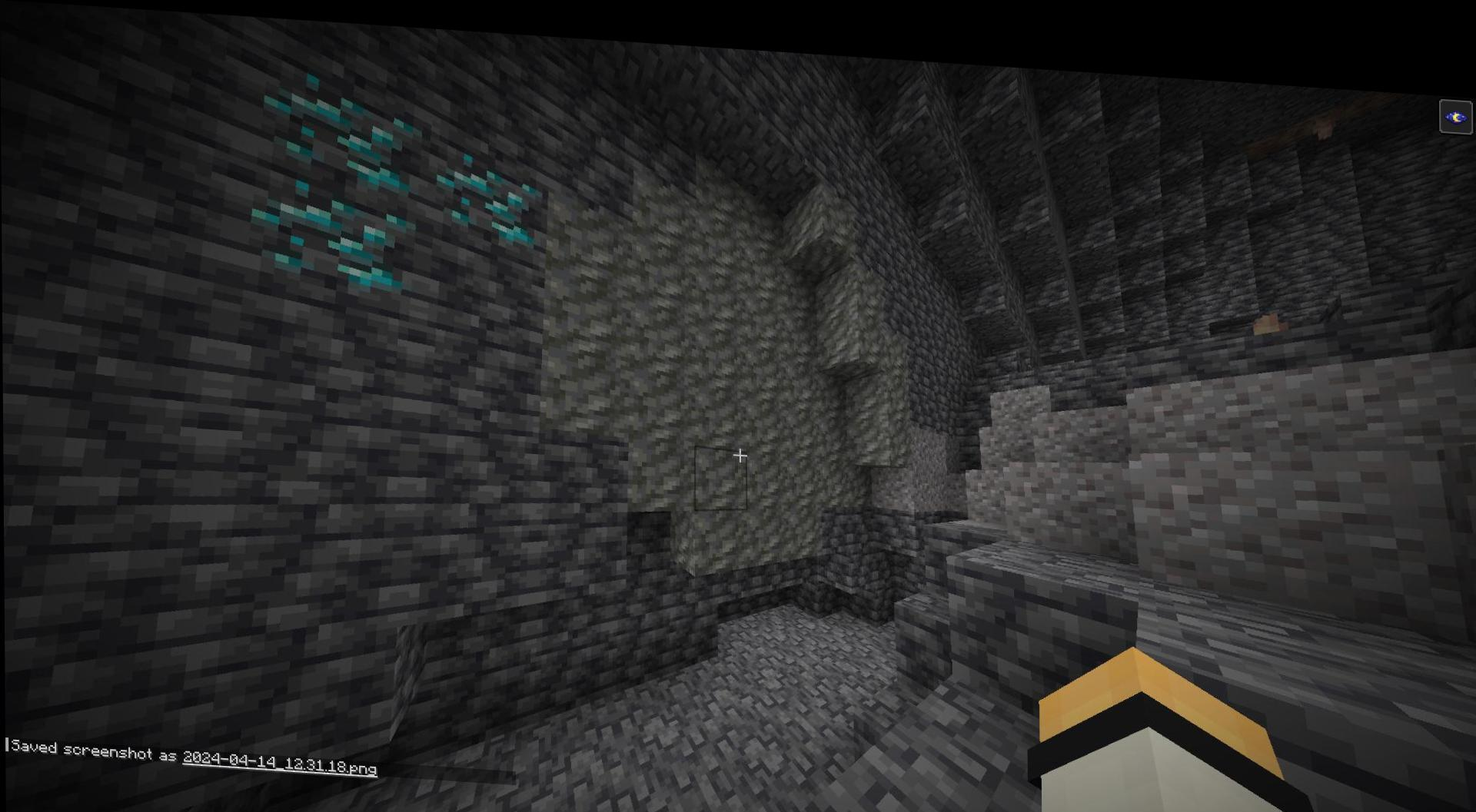diamond ore: (259, 62, 422, 195), (250, 169, 410, 291), (428, 137, 545, 248)
